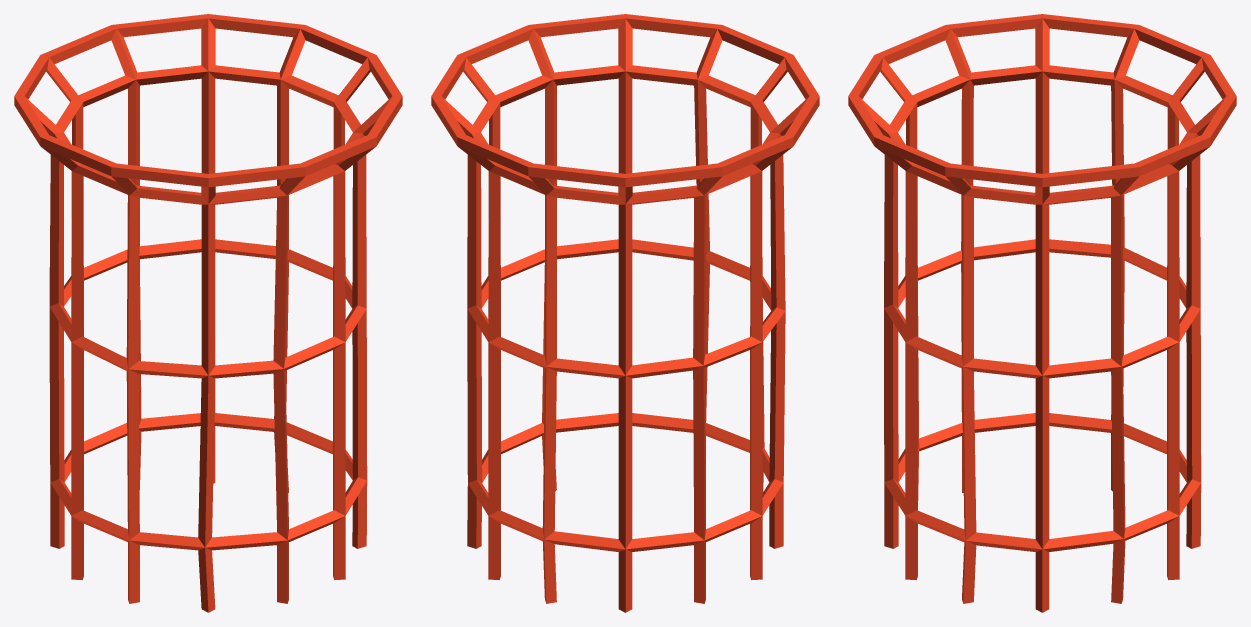
File: SM_Tree_Cage_City.fbx
The picture shows the model from 3 angles, left to right: view 1: azimuth 30°, elevation 25°; view 2: azimuth 150°, elevation 25°; view 3: azimuth 270°, elevation 25°; orthographic projection.
Parts seen in each view (by area): view 1: SM_Tree_Cage_City; view 2: SM_Tree_Cage_City; view 3: SM_Tree_Cage_City.
Boxes of the visible parts, x1,y1,x2,y2 form: SM_Tree_Cage_City: [14, 14, 402, 612]; SM_Tree_Cage_City: [431, 14, 819, 612]; SM_Tree_Cage_City: [848, 14, 1236, 612].
Bounding box in the file's own units: 1.22 × 1.56 × 1.22.
